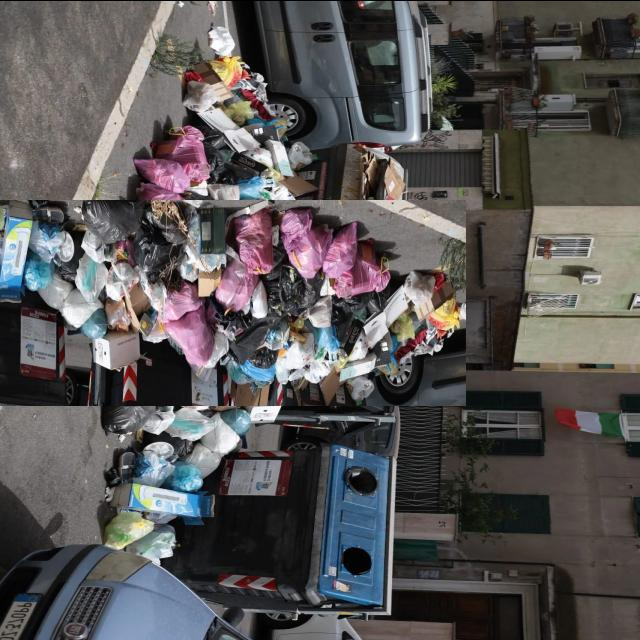garbage: (36, 123, 392, 480)
